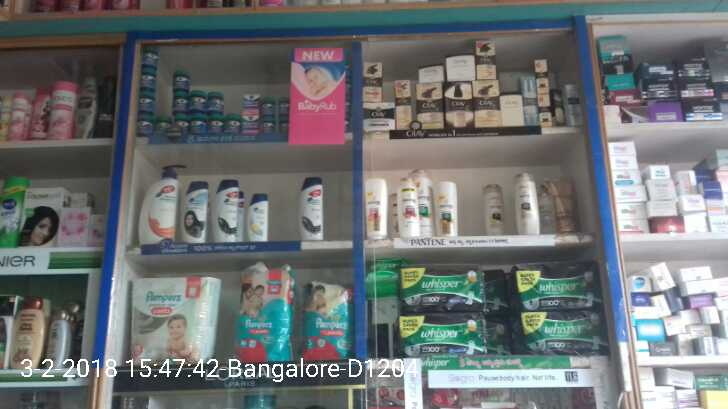vicks: (137, 44, 289, 134)
